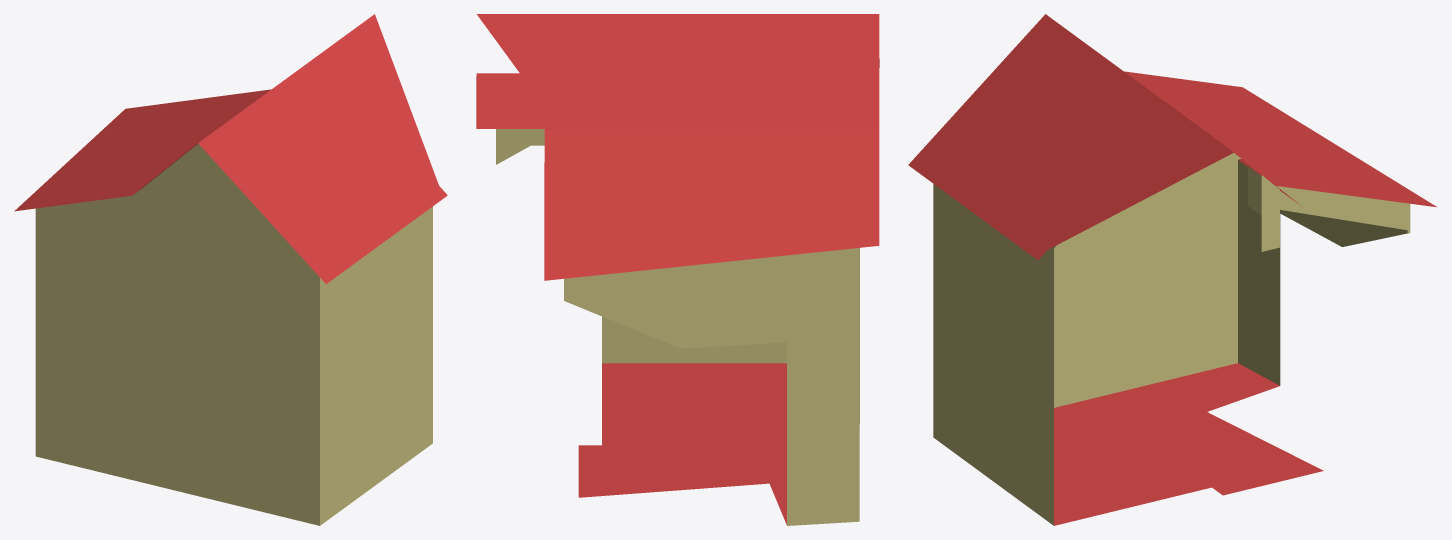
3 views of the same model, side by side, from view 1: azimuth 30°, elevation 25°; view 2: azimuth 150°, elevation 25°; view 3: azimuth 270°, elevation 25° (orthographic). The views are drawn at different scales.
Size of the model in its own units: 18.05 by 21.67 by 17.47.
